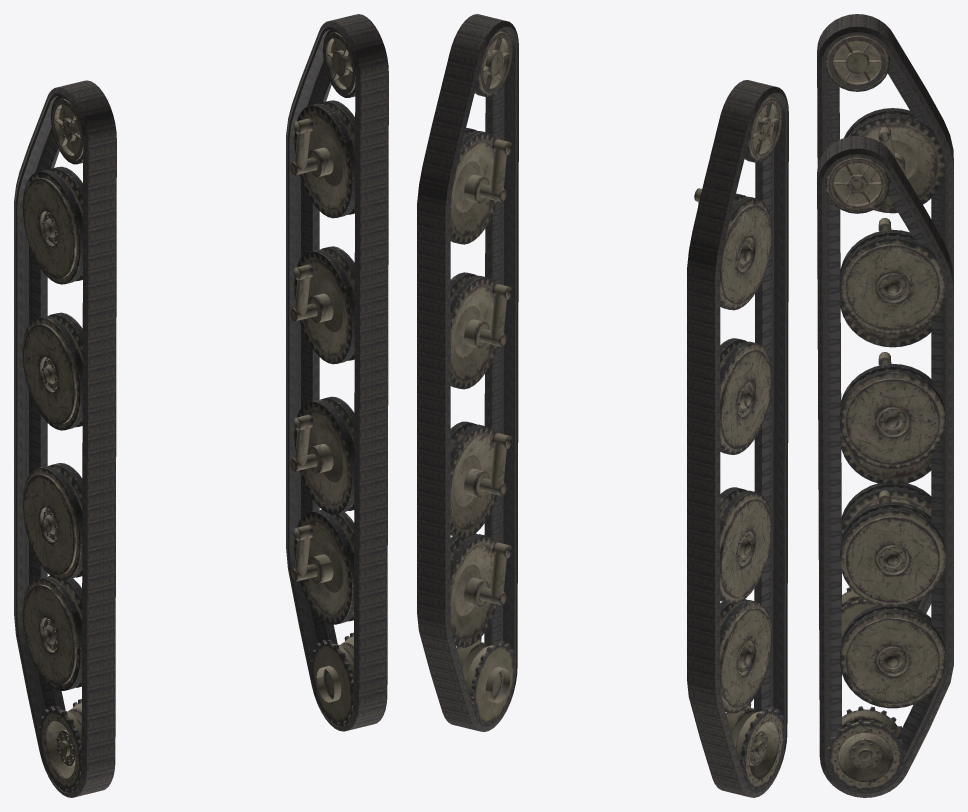
Rendered from Chassis.glb.
The picture shows the model from 3 angles, left to right: view 1: azimuth 30°, elevation 25°; view 2: azimuth 150°, elevation 25°; view 3: azimuth 270°, elevation 25°; orthographic projection. The views are drawn at different scales.
Parts seen in each view (by area): view 1: set_1_group_0, set_0_group_0, set_3_group_0, set_2_group_0; view 2: set_1_group_0, set_0_group_0, set_3_group_0, set_2_group_0; view 3: set_3_group_0, set_0_group_0, set_2_group_0, set_1_group_0.
Boxes of the visible parts, box(x1,y1,x2,y2) form: set_1_group_0: box(14, 80, 116, 797); set_0_group_0: box(286, 14, 388, 731); set_3_group_0: box(290, 29, 355, 726); set_2_group_0: box(22, 96, 83, 792); set_1_group_0: box(687, 80, 788, 797); set_0_group_0: box(417, 14, 518, 731); set_3_group_0: box(450, 29, 516, 726); set_2_group_0: box(694, 95, 786, 792); set_3_group_0: box(825, 156, 945, 793); set_0_group_0: box(817, 136, 953, 797); set_2_group_0: box(825, 34, 945, 637); set_1_group_0: box(817, 14, 953, 613).
Size of the model in its own units: 2.53 by 5.6 by 1.07.
4 materials, 4 textured.
